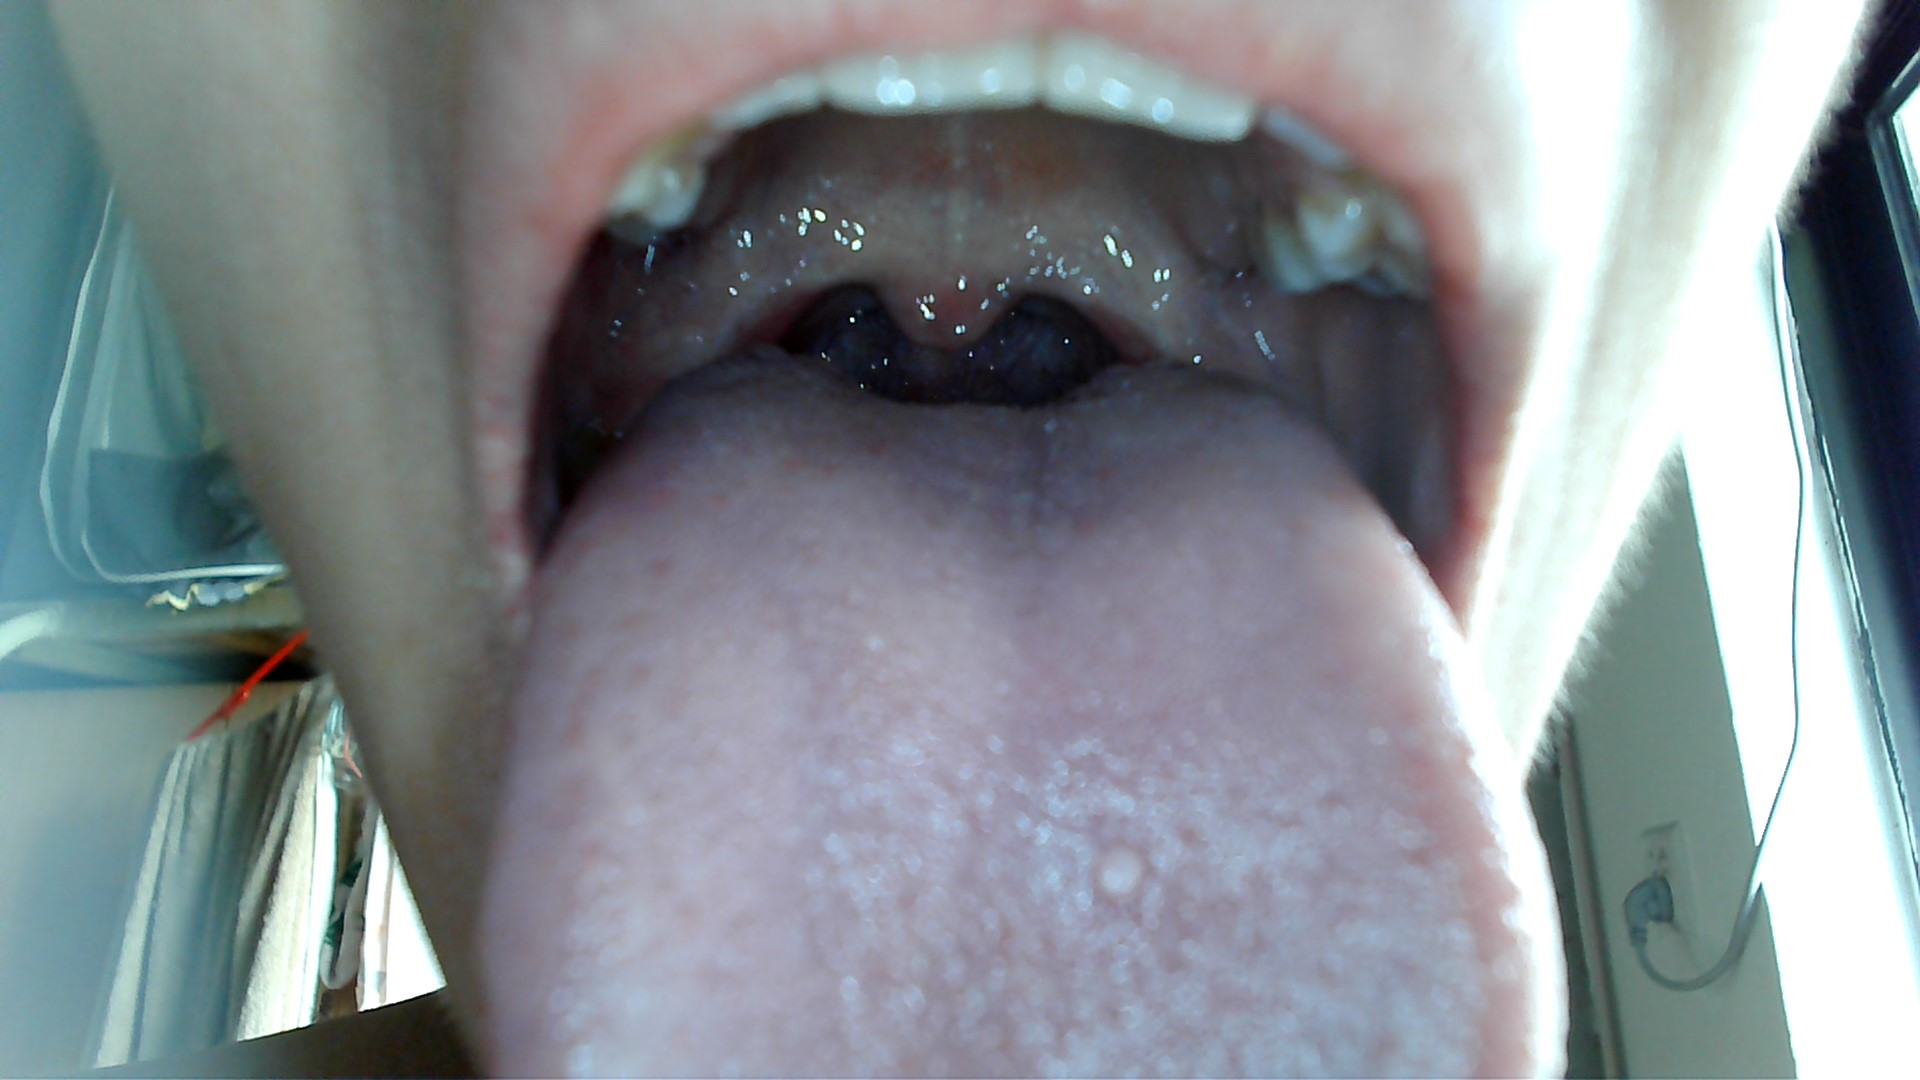throat: (1073, 216, 1203, 364), (698, 244, 858, 344)
